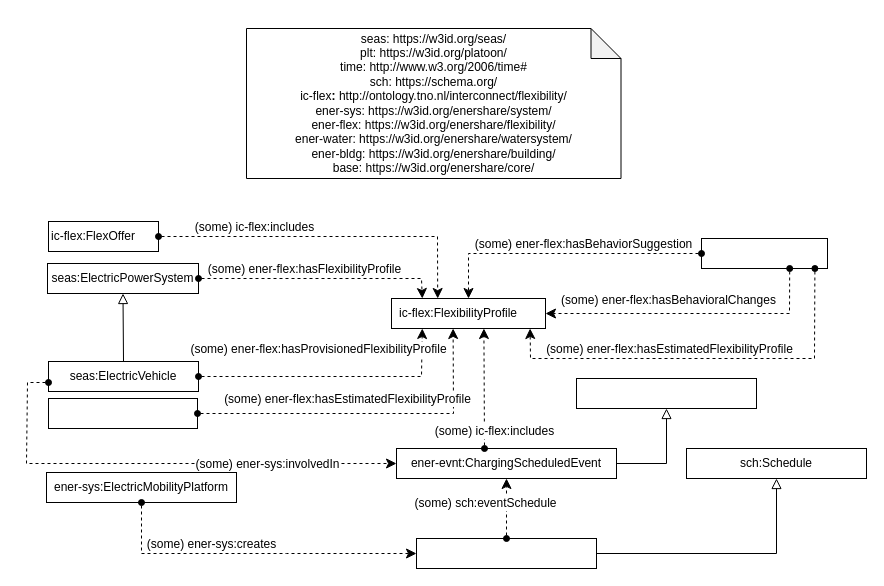
The diagram is 884 pixels wide and 586 high, and some of its shapes have lost their labels. Here are the shapes that lost their labels. From the top down, the centre of each, then its label:
At point (764, 253): "seas:Consumer".
At point (123, 413): "seas:Building".
At point (666, 393): "plt:ScheduledEvent".
At point (506, 553): "ener-scd:ChargingSchedule".
